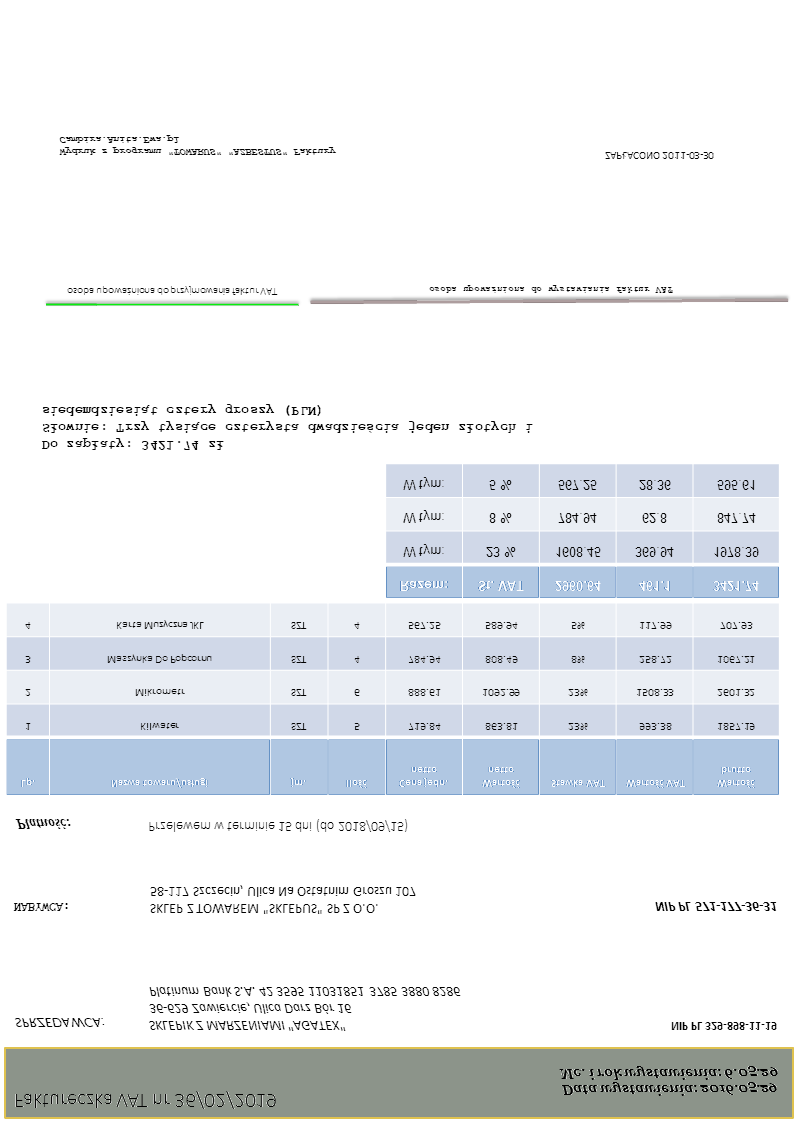Table: (4, 601, 779, 796), (385, 462, 779, 599)
TextBox: (38, 401, 538, 454), (144, 978, 463, 1036), (146, 882, 418, 917), (555, 1061, 781, 1101), (55, 131, 341, 158), (10, 1089, 279, 1114), (145, 817, 410, 834), (426, 283, 675, 297), (63, 284, 279, 298), (667, 1016, 777, 1036), (652, 898, 778, 915), (10, 1012, 106, 1033), (602, 148, 717, 164), (10, 898, 70, 916), (13, 816, 72, 833)
